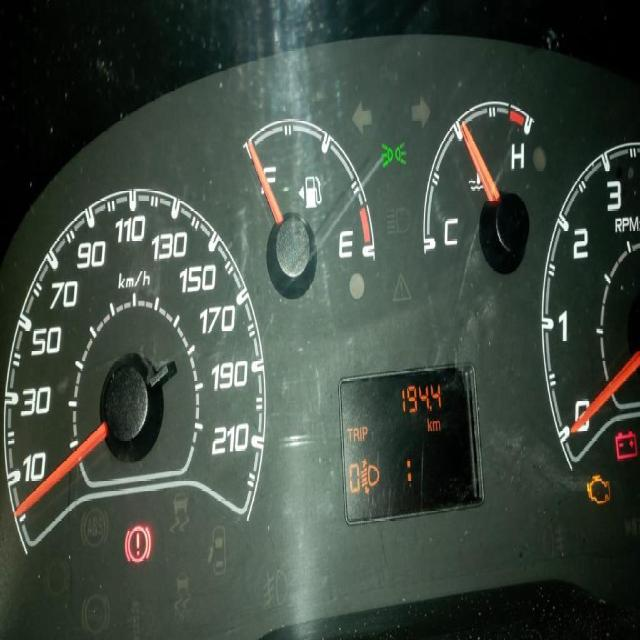odometer: (338, 361, 484, 526)
